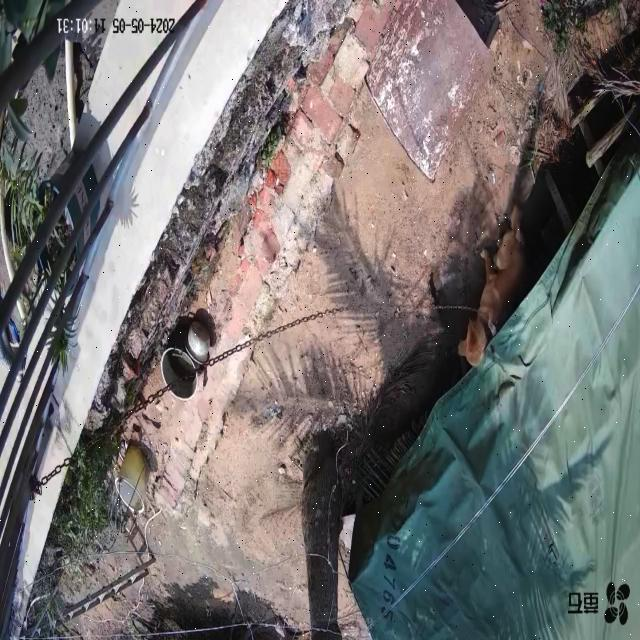dog: (459, 204, 531, 370)
